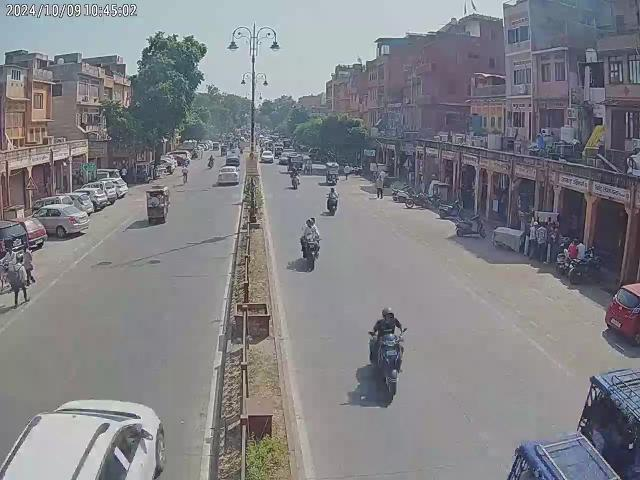auto: (579, 366, 639, 480), (506, 436, 620, 480), (144, 186, 170, 226), (326, 161, 338, 183)
car: (604, 276, 640, 348), (32, 204, 90, 237), (0, 218, 29, 258), (17, 217, 47, 248), (73, 187, 109, 210), (60, 192, 95, 215), (81, 181, 115, 200), (32, 195, 76, 209), (100, 178, 129, 196), (216, 164, 239, 186), (225, 150, 239, 166), (260, 150, 274, 163), (278, 152, 292, 165)
helmet: (380, 306, 395, 323), (305, 218, 317, 230)
lorry: (0, 396, 168, 480)
motorbike: (454, 211, 486, 240), (568, 258, 602, 284)
motorbike-rider: (300, 216, 322, 270), (290, 166, 301, 190), (207, 154, 215, 168)
person: (8, 255, 31, 308), (21, 244, 36, 288), (536, 222, 546, 264), (529, 220, 538, 258), (564, 238, 578, 260), (375, 174, 384, 200)
scooty-rider: (368, 306, 408, 398), (326, 186, 339, 216)
